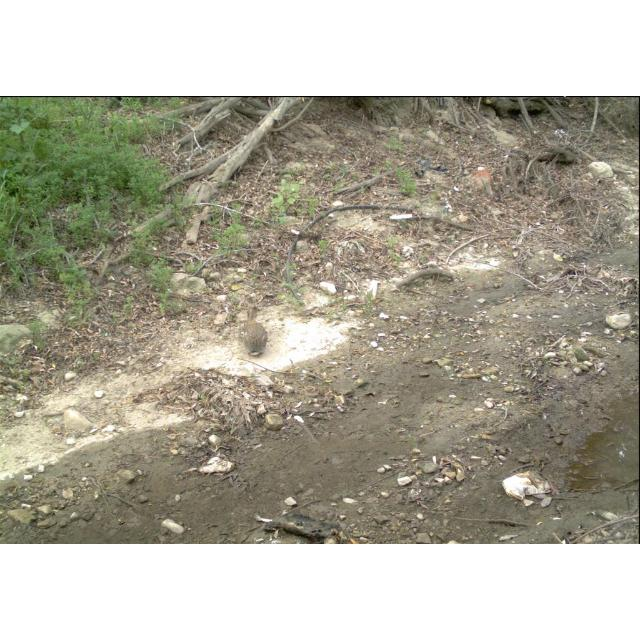animals: (242, 306, 270, 360)
